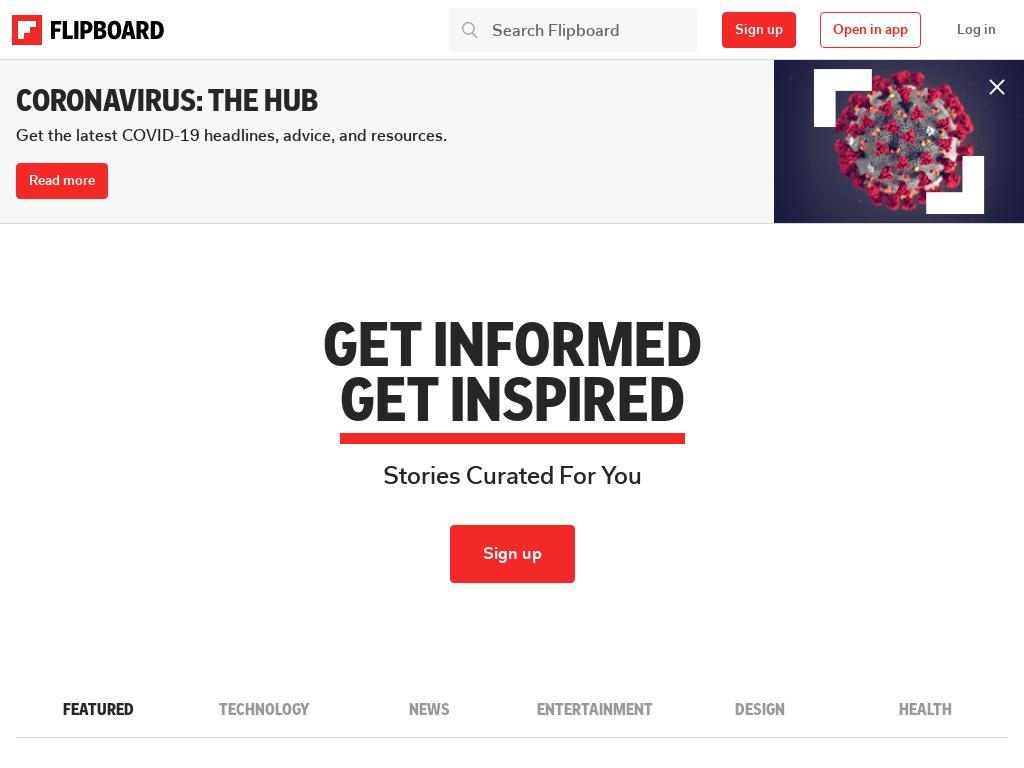button: (12, 0, 289, 60), (448, 8, 698, 52), (449, 525, 575, 583), (819, 12, 921, 48), (16, 163, 108, 199), (721, 12, 796, 48)
field: (448, 8, 698, 52)
heading: (339, 367, 685, 444), (322, 324, 702, 367), (16, 84, 496, 117)
image: (774, 60, 1024, 223), (12, 15, 165, 45), (460, 8, 479, 52), (986, 76, 1008, 98)
link: (956, 21, 996, 39)
text: (16, 460, 1008, 493), (16, 125, 496, 147), (511, 683, 678, 737), (16, 683, 182, 737), (181, 683, 347, 737), (346, 683, 512, 737), (677, 683, 843, 737), (842, 683, 1008, 737)
